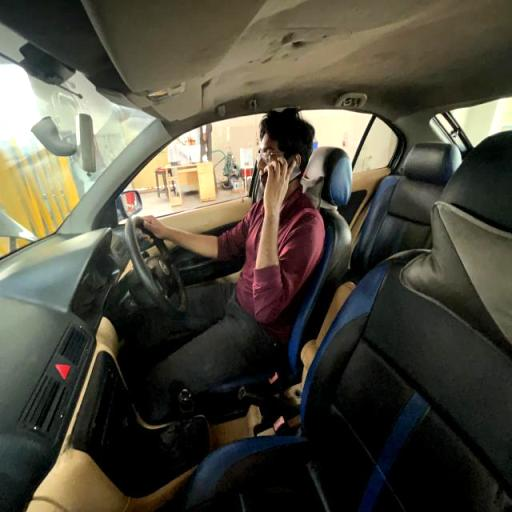Talking_on_phone: (140, 105, 323, 333)
